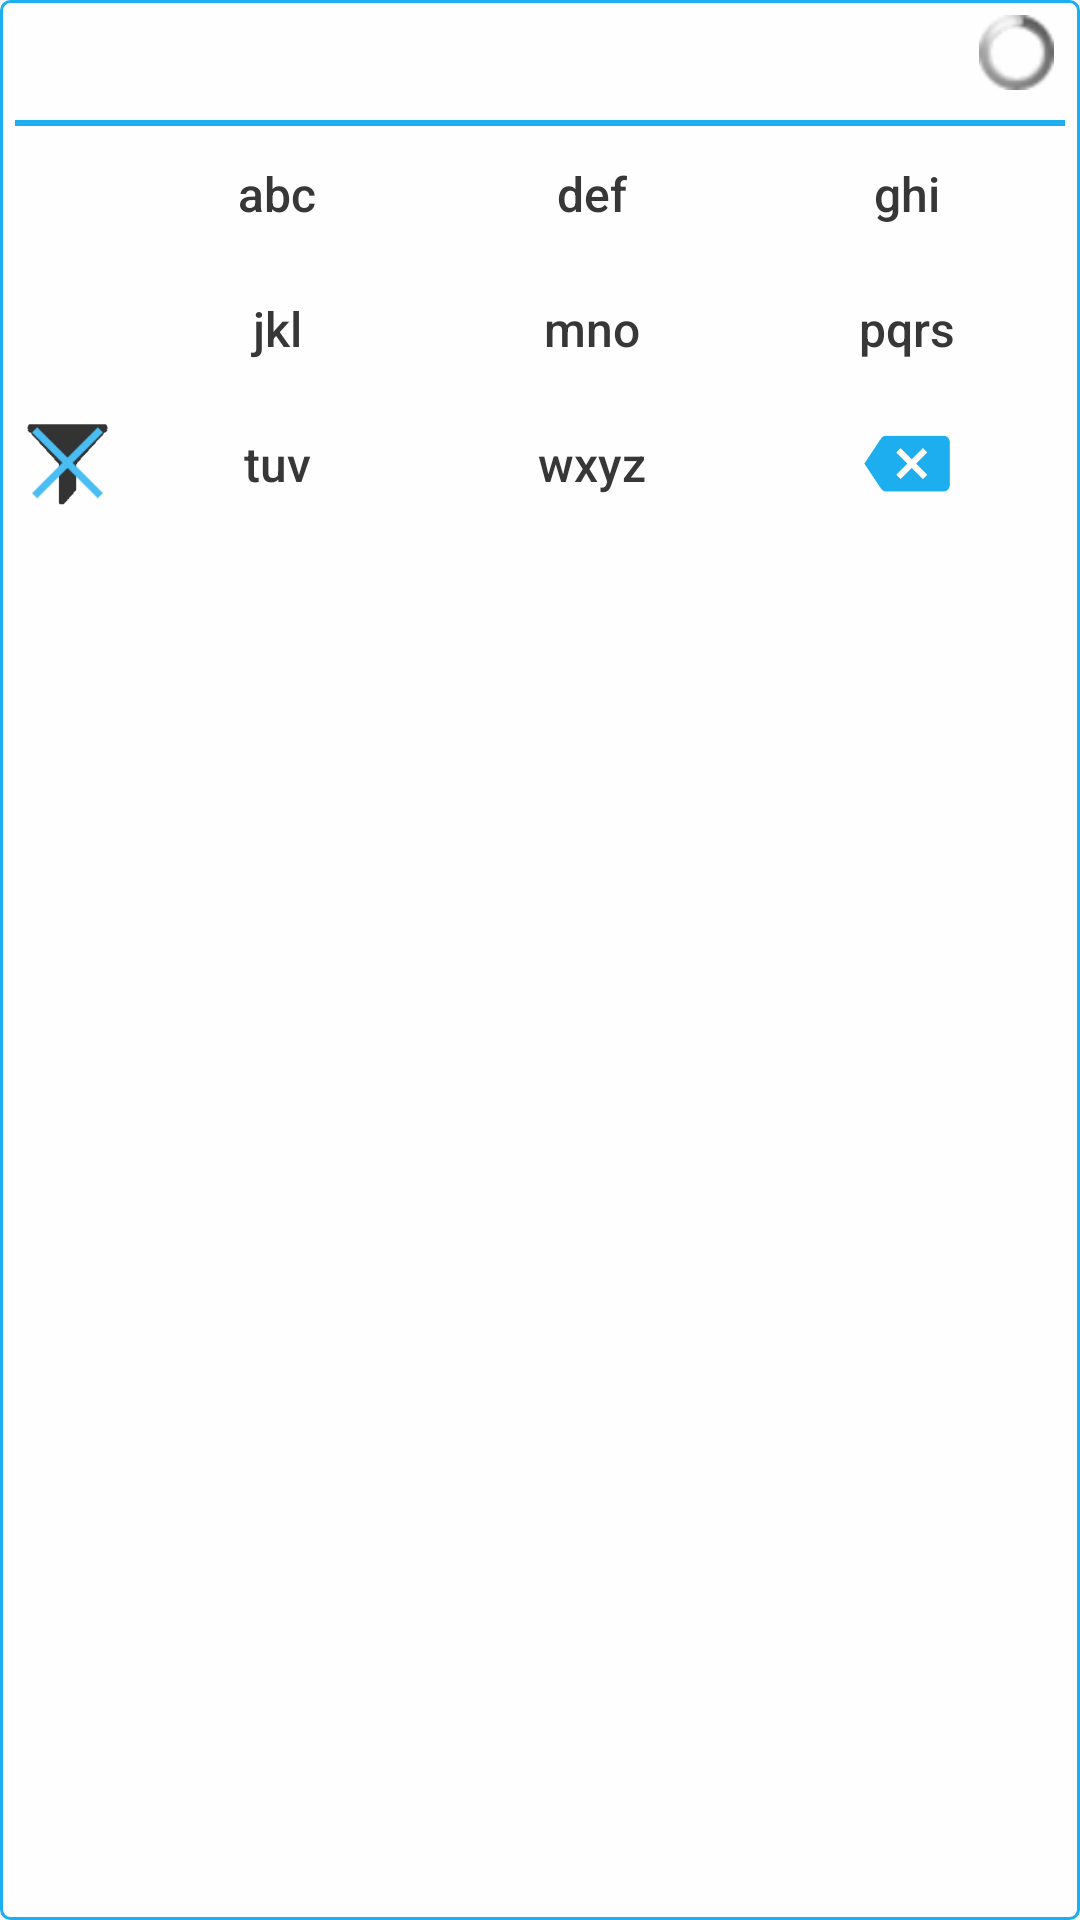

Icons on this 1080*1920 Android screen, each with its box as (x1, y1, x2, y2):
backspace arrow: (864, 435, 950, 492)
filter all theme: (27, 424, 108, 505)
